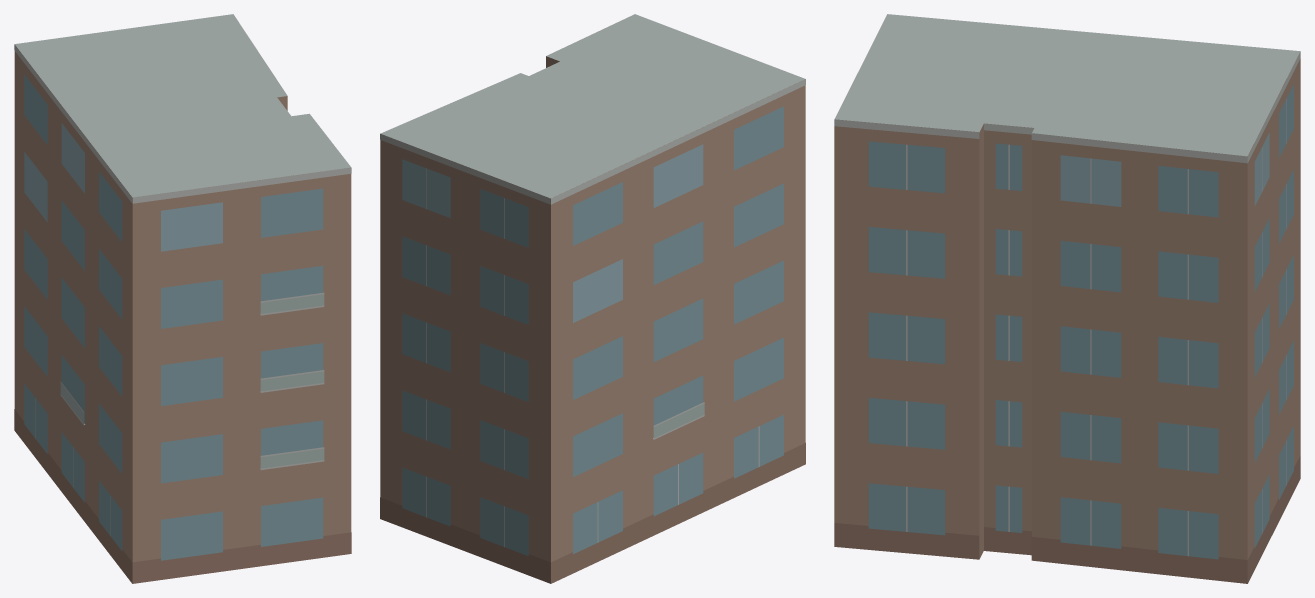
Rendered from survey-upis-32664151.glb.
3 renders of one model, left to right at view 1: azimuth 30°, elevation 25°; view 2: azimuth 150°, elevation 25°; view 3: azimuth 270°, elevation 25°, orthographic. The views are drawn at different scales.
Parts seen in each view (by area): view 1: survey-upis-32664151.tmp; view 2: survey-upis-32664151.tmp; view 3: survey-upis-32664151.tmp.
Boxes of the visible parts, bbox=[...] form: survey-upis-32664151.tmp: bbox=[14, 14, 351, 583]; survey-upis-32664151.tmp: bbox=[380, 14, 805, 583]; survey-upis-32664151.tmp: bbox=[834, 14, 1300, 583].
Bounding box in the file's own units: 10.87 × 15.2 × 15.03.
